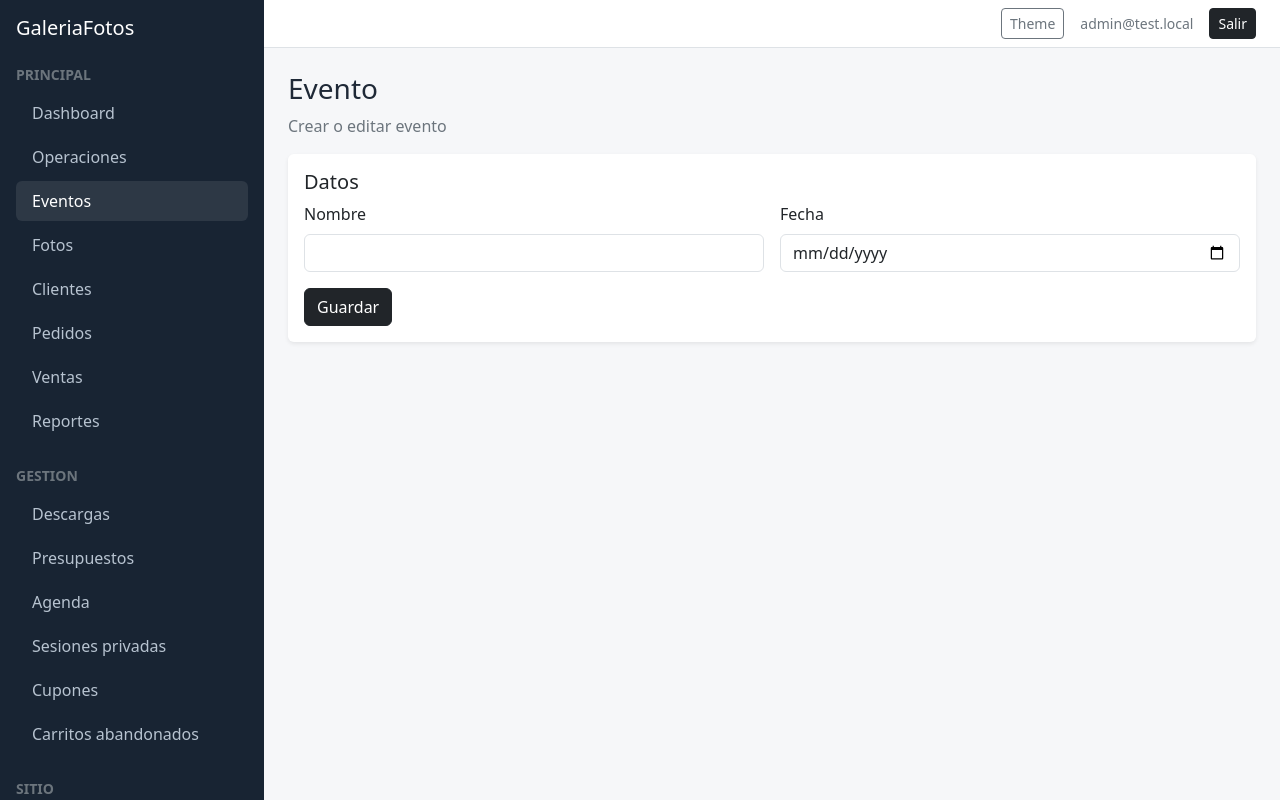
Test: admin R5 › valida formularios admin criticos
Click the button "Guardar".
click(348, 307)  # box x1=304 y1=288 x2=392 y2=326
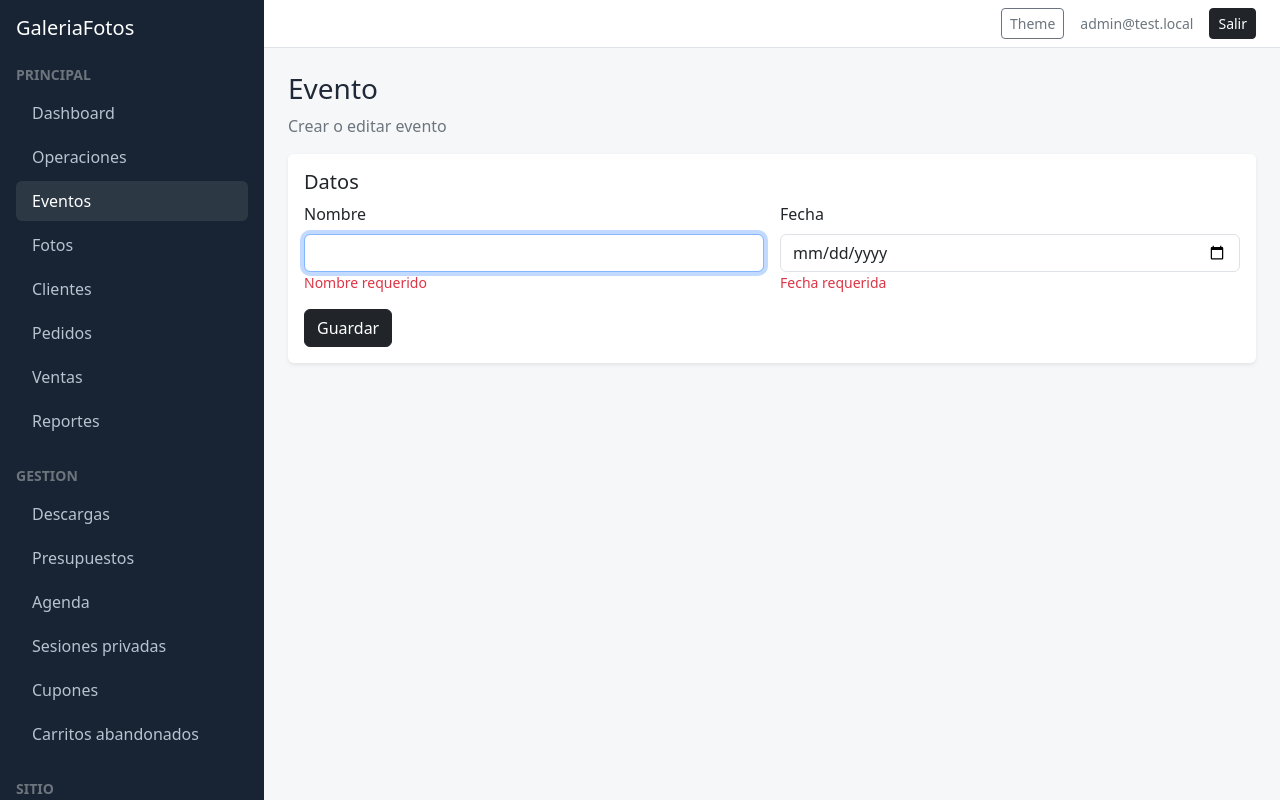
Check: the text "Nombre requerido" is shown, box x1=304 y1=273 x2=427 y2=292
